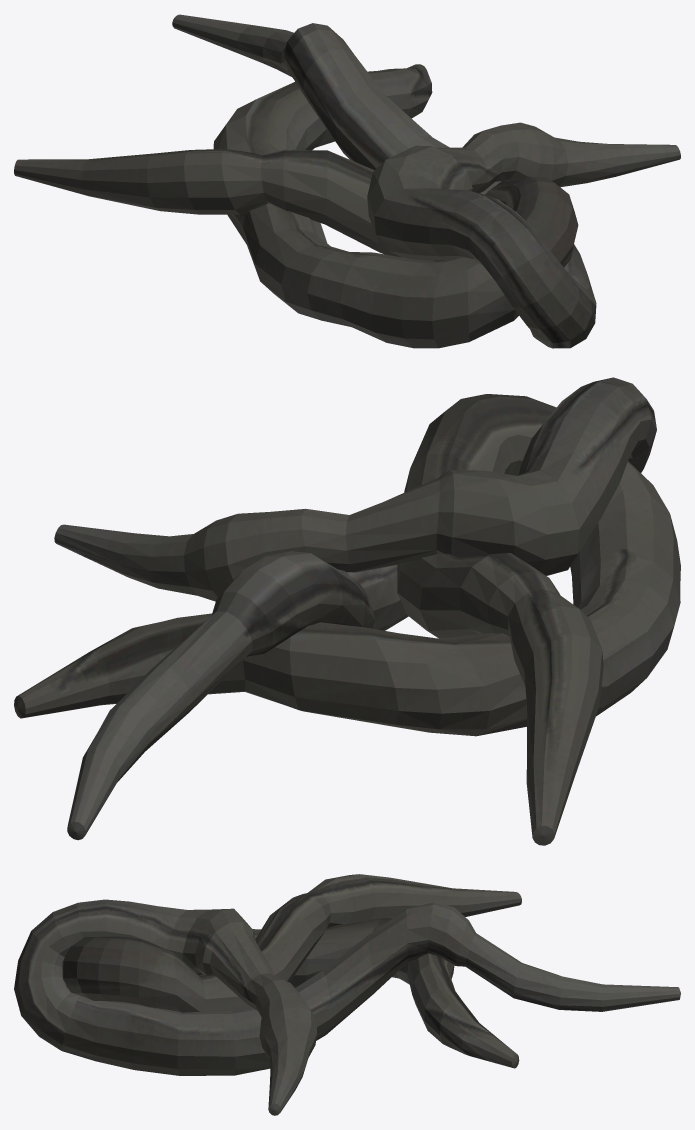
The model's file is DeadRoot.fbx.
3 views of the same model, one above another, from view 1: azimuth 30°, elevation 25°; view 2: azimuth 150°, elevation 25°; view 3: azimuth 270°, elevation 25° (orthographic). The views are drawn at different scales.
Visible parts, largest first — view 1: SM_ENV_Nature_DeadTree_Root02.mo; view 2: SM_ENV_Nature_DeadTree_Root02.mo; view 3: SM_ENV_Nature_DeadTree_Root02.mo.
Part boxes in pixels (<box>): SM_ENV_Nature_DeadTree_Root02.mo: <box>14,14,680,348</box>; SM_ENV_Nature_DeadTree_Root02.mo: <box>14,377,680,845</box>; SM_ENV_Nature_DeadTree_Root02.mo: <box>14,874,680,1115</box>.
Size of the model in its own units: 685 by 214 by 913.
Materials: 1 (1 with a texture image).
